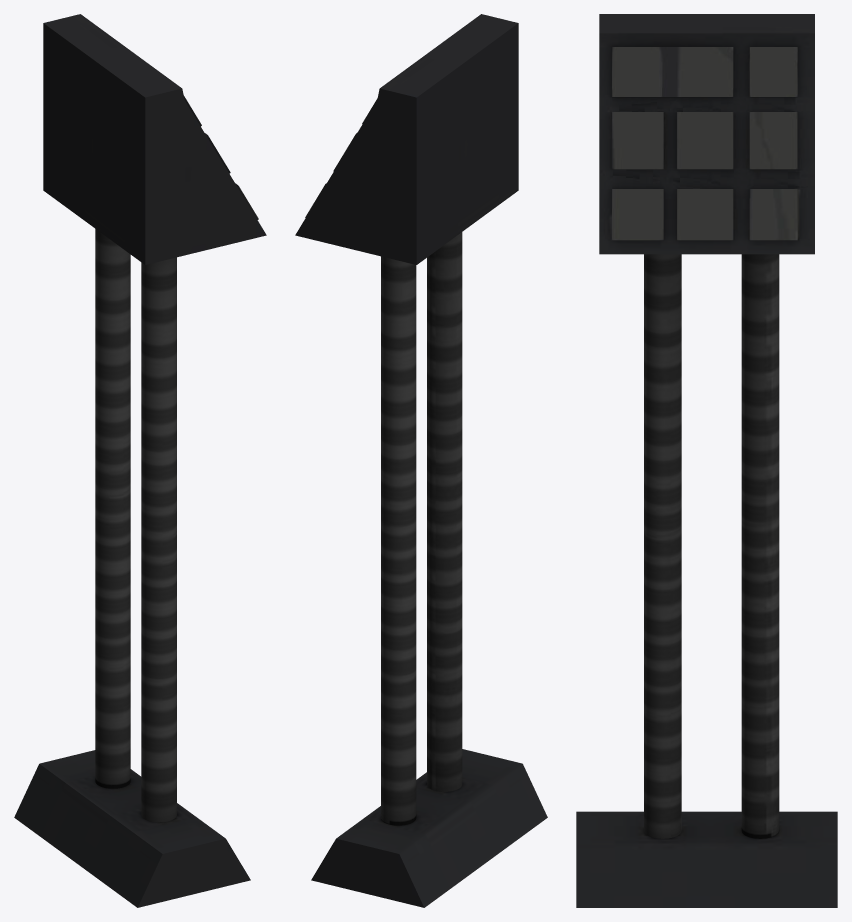
File: KeypadExport.fbx
3 renders of one model, left to right at view 1: azimuth 30°, elevation 25°; view 2: azimuth 150°, elevation 25°; view 3: azimuth 270°, elevation 25°, orthographic. The views are drawn at different scales.
Parts seen in each view (by area): view 1: pCube3; view 2: pCube3; view 3: pCube3.
Boxes of the visible parts, x1=… form: pCube3: x1=14, y1=14, x2=266, y2=907; pCube3: x1=295, y1=14, x2=547, y2=907; pCube3: x1=576, y1=14, x2=837, y2=907.
Bounding box in the file's own units: 0.6162 × 3.35 × 0.9403.
